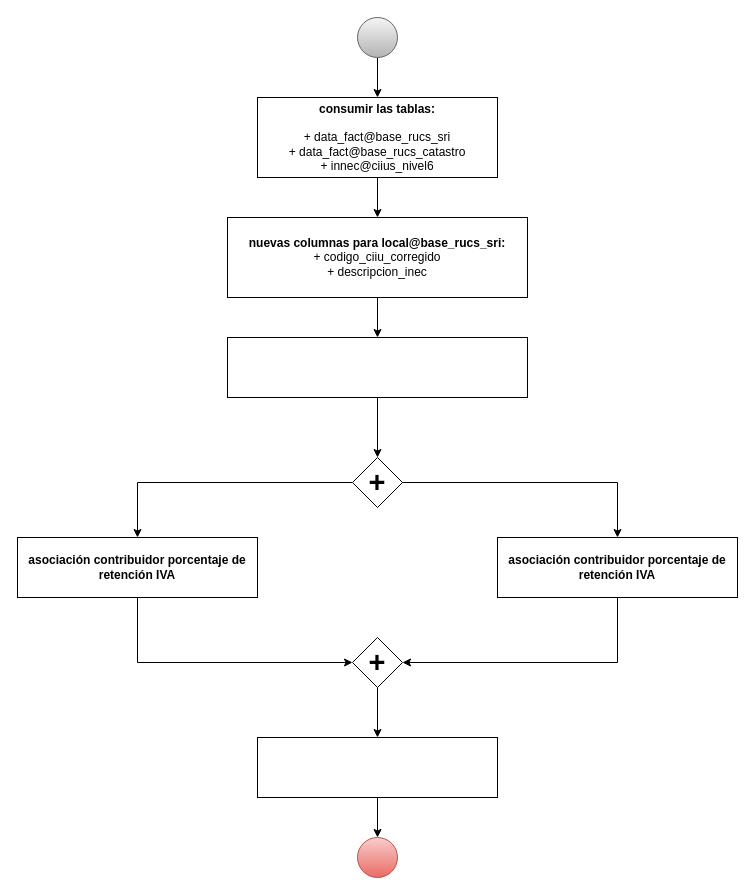
The diagram is 755 pixels wide and 895 high, and some of its shapes have lost their labels. Each missing label, with the centre of its shape:
"creación tabla local@mapping_ciiu_servicio_bien" belongs at point (377, 367).
"Publicación tabla data_fact@porcentajes_retencion" belongs at point (377, 767).
